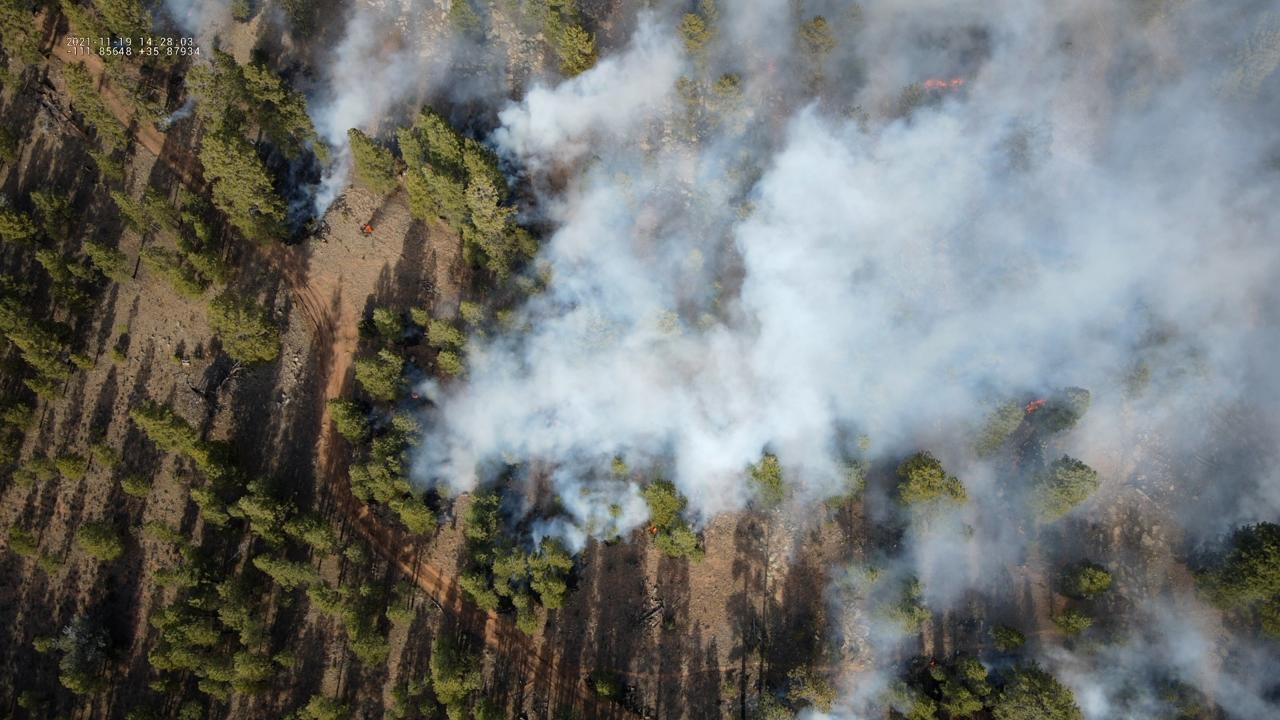fire: (924, 76, 966, 94), (1022, 398, 1049, 415), (765, 56, 778, 78), (363, 223, 372, 234), (187, 8, 193, 17), (651, 527, 658, 534), (412, 393, 418, 399)
smoke: (282, 0, 1280, 720), (143, 0, 240, 127)
